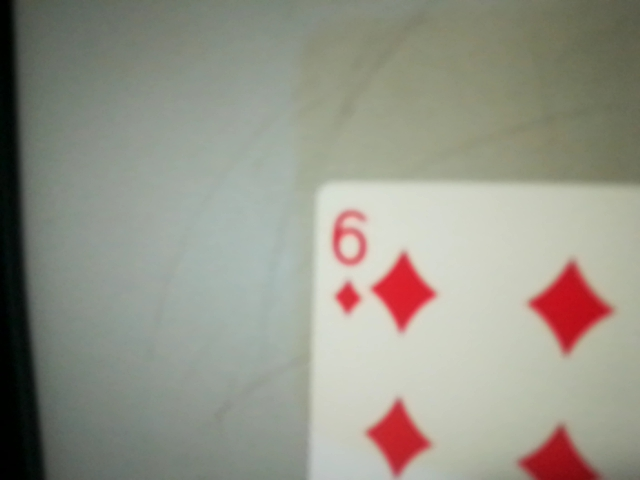fk 6: (315, 200, 380, 323)
